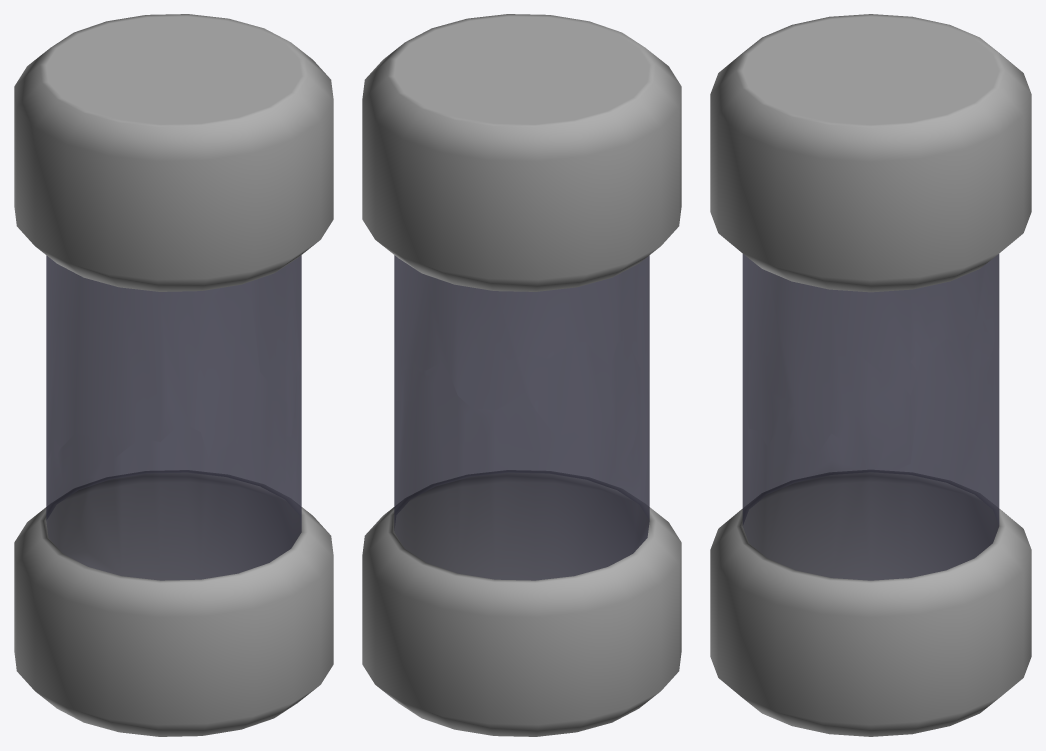
The model's file is Environment_BarrelBroken_0021_Mesh.fbx.
3 views of the same model, side by side, from view 1: azimuth 30°, elevation 25°; view 2: azimuth 150°, elevation 25°; view 3: azimuth 270°, elevation 25° (orthographic).
Visible parts, largest first — view 1: barrel_2_BrokenTop, barrel_2_BrokenButt; view 2: barrel_2_BrokenTop, barrel_2_BrokenButt; view 3: barrel_2_BrokenTop, barrel_2_BrokenButt.
Boxes of the visible parts, x1,y1,x2,y2 form: barrel_2_BrokenTop: (14,14,333,475); barrel_2_BrokenButt: (14,282,333,736); barrel_2_BrokenTop: (362,14,681,486); barrel_2_BrokenButt: (362,298,681,736); barrel_2_BrokenTop: (710,14,1031,482); barrel_2_BrokenButt: (710,310,1031,736).
Size of the model in its own units: 111 by 232 by 111.
